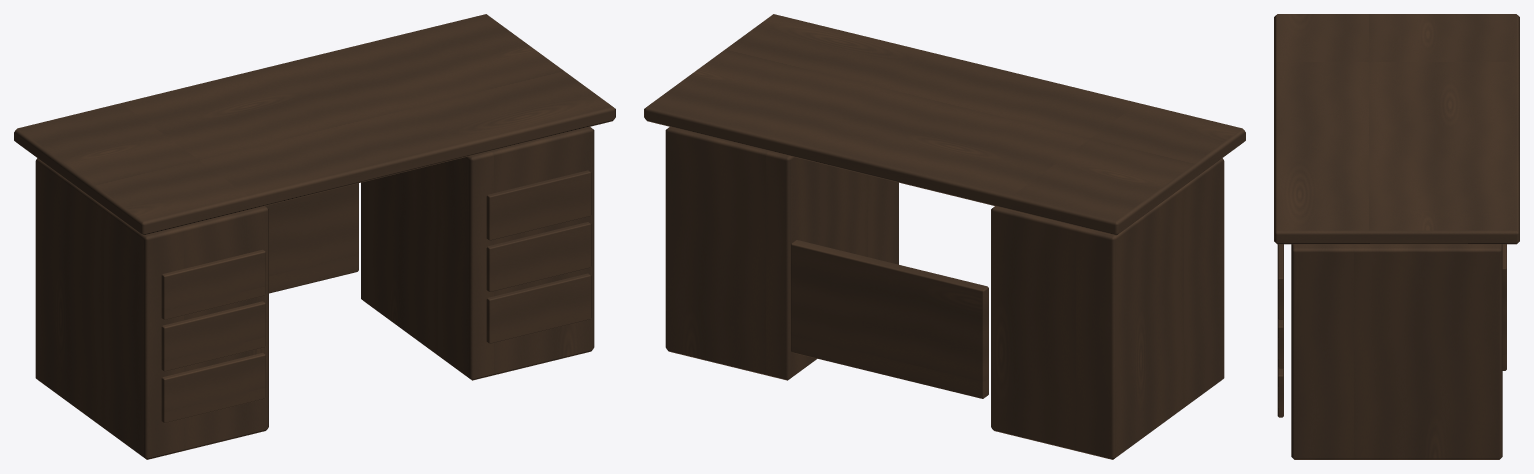
The model's file is standard_lod1.glb.
3 renders of one model, left to right at view 1: azimuth 30°, elevation 25°; view 2: azimuth 150°, elevation 25°; view 3: azimuth 270°, elevation 25°, orthographic. The views are drawn at different scales.
Parts seen in each view (by area): view 1: BATCH_Desk_Standard_LOD1_Desk_Standard_Body, BATCH_Desk_Standard_LOD1_Desk_Standard_Surface; view 2: BATCH_Desk_Standard_LOD1_Desk_Standard_Body, BATCH_Desk_Standard_LOD1_Desk_Standard_Surface; view 3: BATCH_Desk_Standard_LOD1_Desk_Standard_Surface, BATCH_Desk_Standard_LOD1_Desk_Standard_Body.
Boxes of the visible parts, x1,y1,x2,y2 form: BATCH_Desk_Standard_LOD1_Desk_Standard_Body: [35, 127, 594, 459]; BATCH_Desk_Standard_LOD1_Desk_Standard_Surface: [14, 14, 615, 235]; BATCH_Desk_Standard_LOD1_Desk_Standard_Body: [665, 127, 1224, 459]; BATCH_Desk_Standard_LOD1_Desk_Standard_Surface: [644, 14, 1245, 235]; BATCH_Desk_Standard_LOD1_Desk_Standard_Surface: [1274, 14, 1519, 244]; BATCH_Desk_Standard_LOD1_Desk_Standard_Body: [1277, 244, 1506, 459].
Bounding box in the file's own units: 1.52 × 0.76 × 0.72.
Materials: 2 (2 with a texture image).
